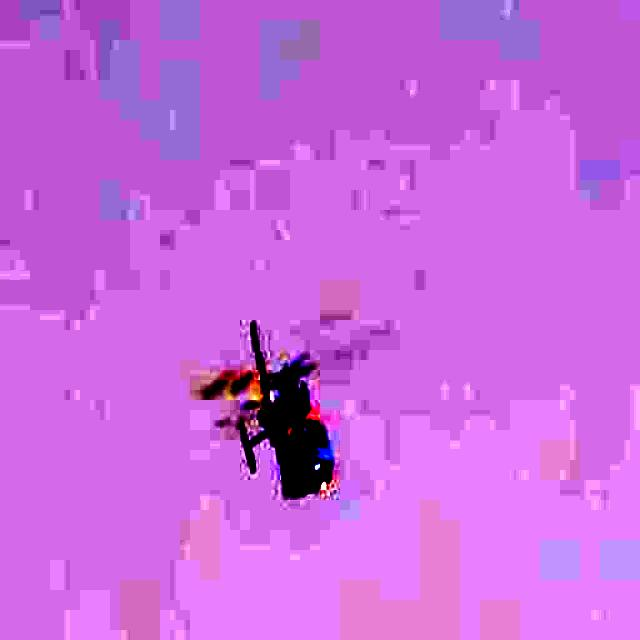drone: (146, 259, 412, 555)
